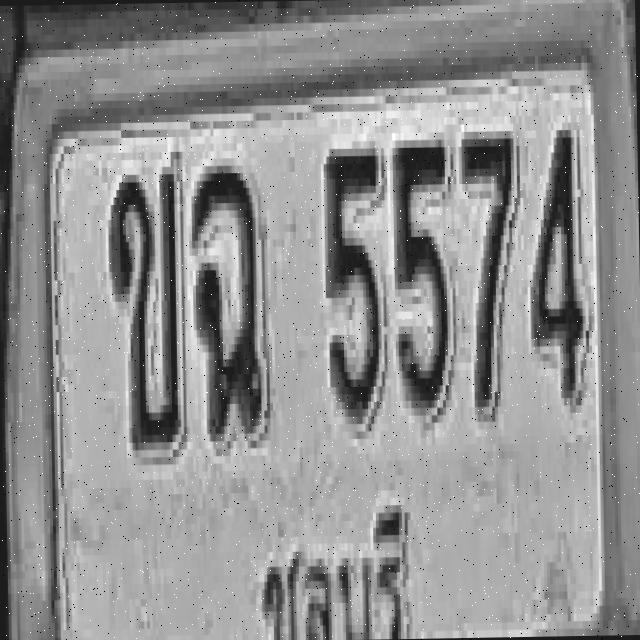11KhorKhai: (107, 166, 184, 450)
18ChorChing: (190, 160, 267, 438)
4: (528, 126, 586, 402)
5: (322, 140, 382, 424), (392, 136, 452, 412)
7: (459, 123, 519, 414)
Chonburi: (253, 489, 409, 640)
